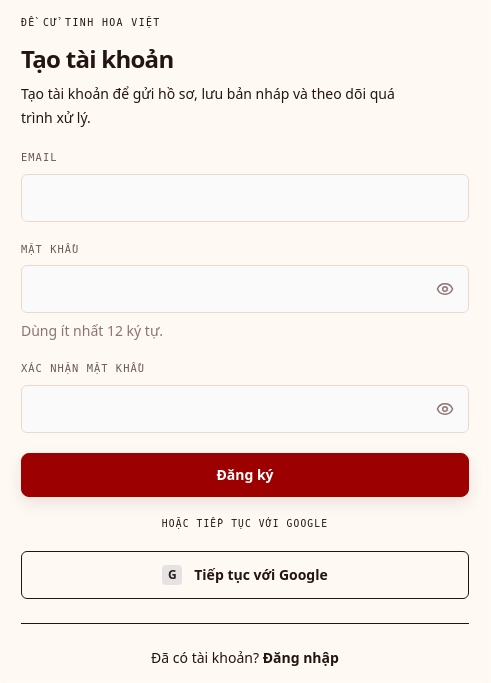
Scenario: RegisterForm › explains how to resend when the account was created but email delivery fails
The width and height of the screenshot is (491, 683).
In the field labelled "Email": [245, 198] box [21,174,469,222], type "owner@cnsgroup.vn"
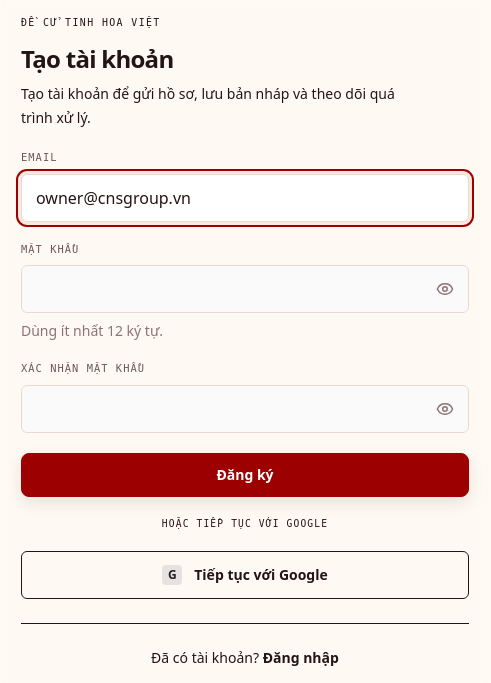
In the password field labelled "Mật khẩu": [245, 289] box [21,265,469,313], type "correct horse battery staple"
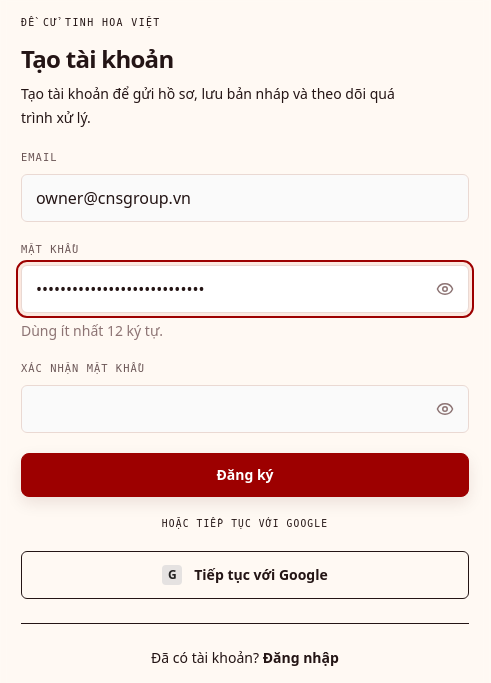
In the password field labelled "Xác nhận mật khẩu": [245, 409] box [21,385,469,433], type "correct horse battery staple"
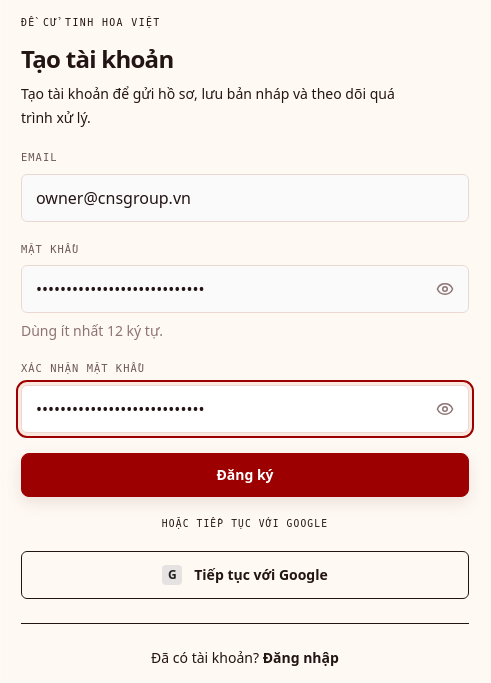
Click the button "Đăng ký": [245, 475] box [21,453,469,497]
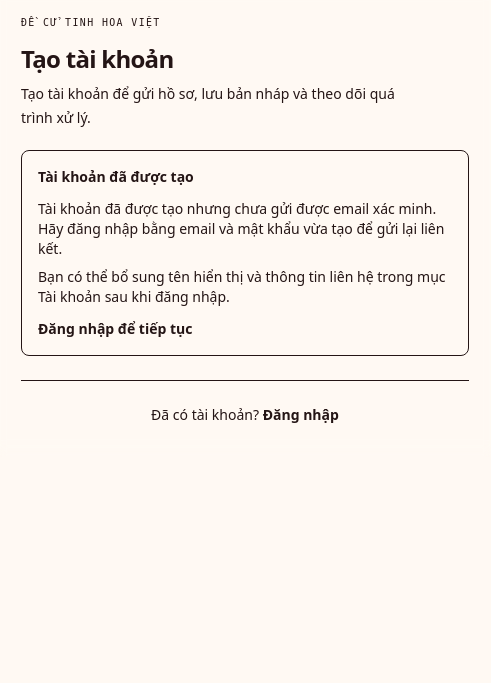
Now the message shows "Tài khoản đã được tạo nhưng chưa gửi được email xác minh", box [38,199,444,258]
